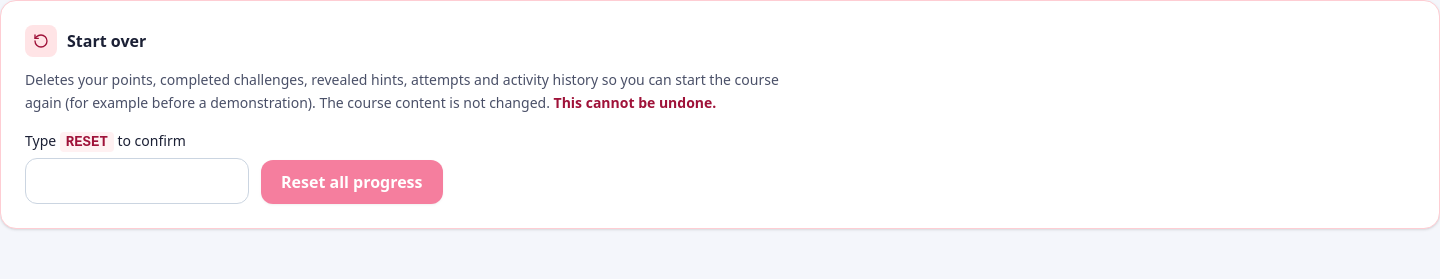
Test: ResetProgressPanel › reports a failed reset
This screenshot has width=1440, height=279.
Type "RESET" into the field labelled "Type RESET to confirm".
click(137, 180); type("RESET")  # box [25,158,249,204]
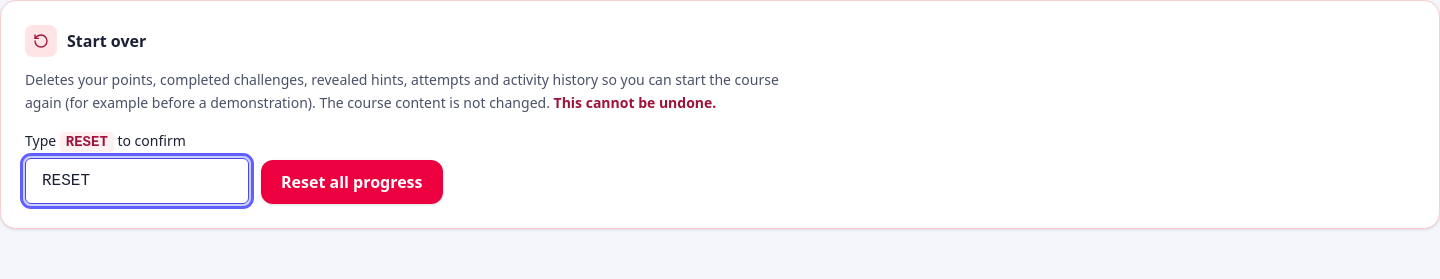
Click the button "Reset all progress".
click(352, 182)  # box [261,160,442,204]
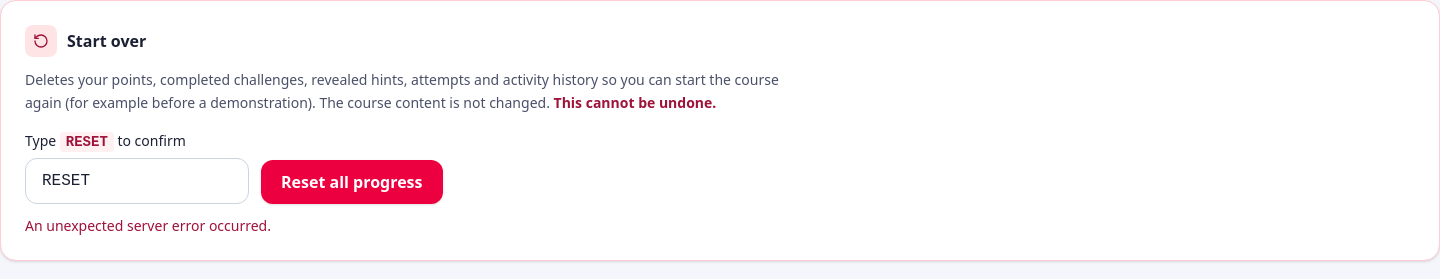
Expected: the message reads "An unexpected server error occurred.", [25,216,271,234]
